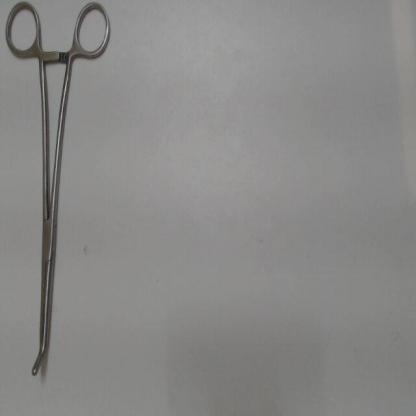Lahey Forceps: (2, 1, 118, 383)
